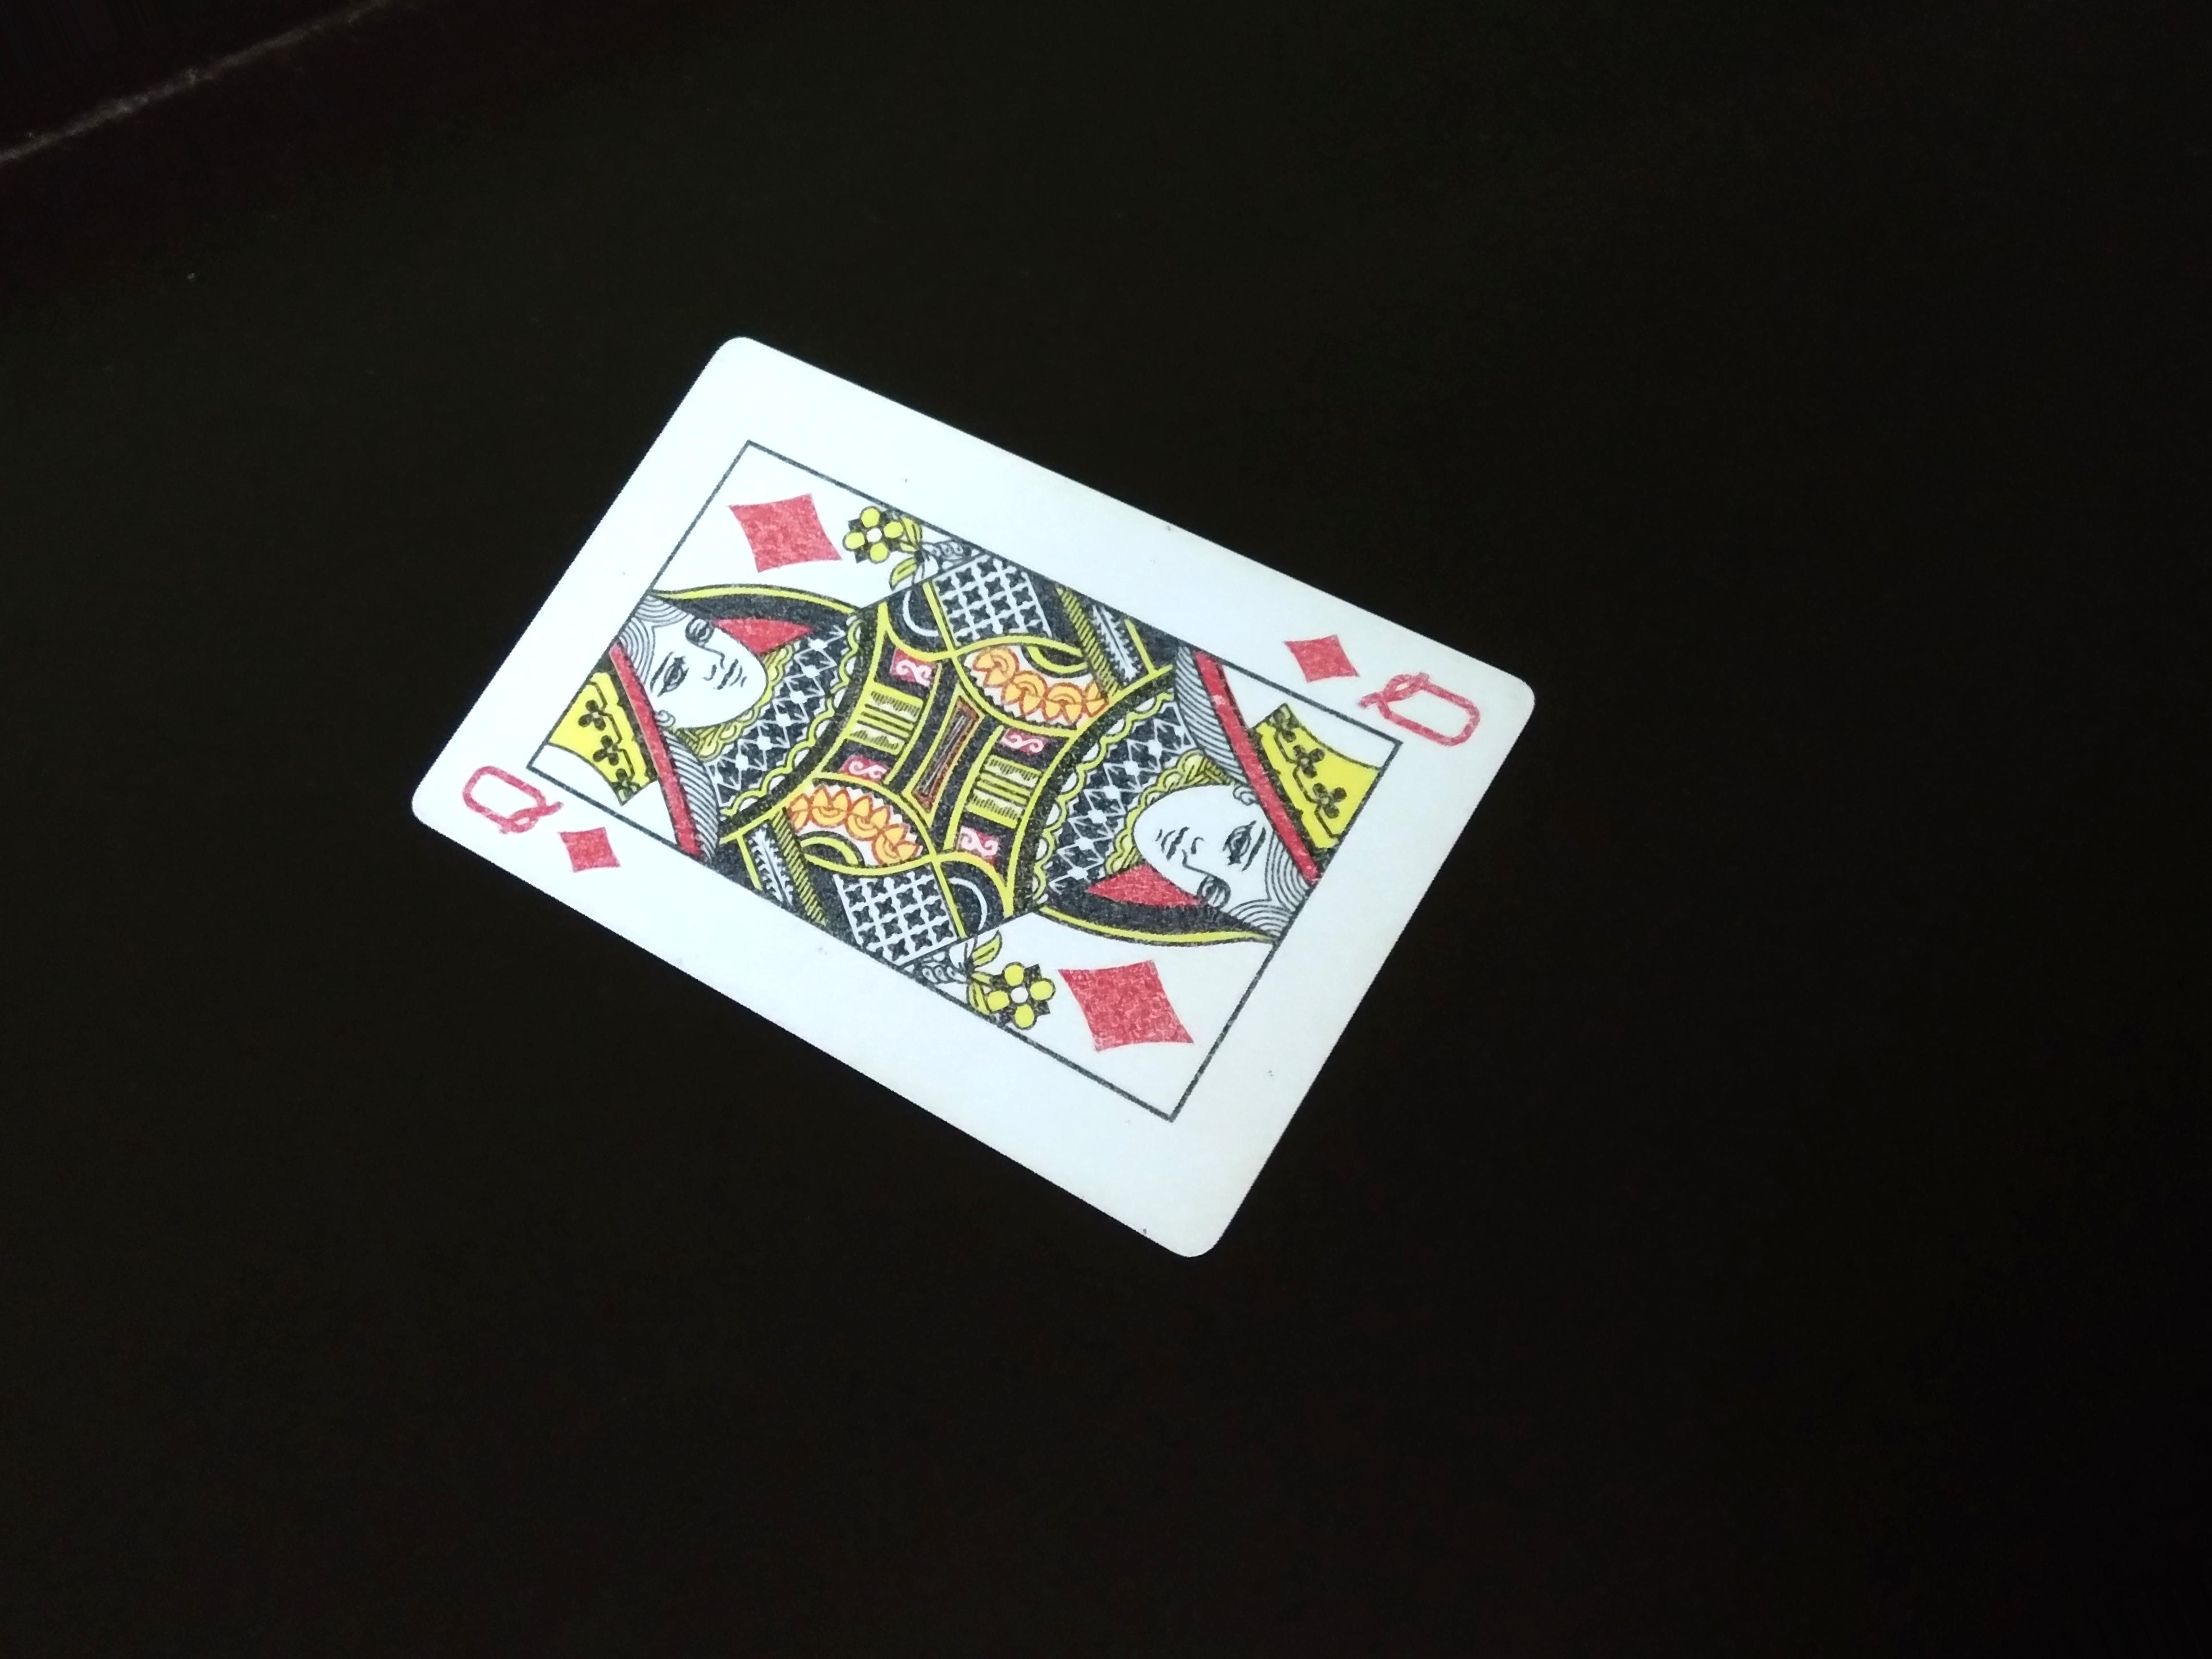QD: (401, 727, 636, 892)
